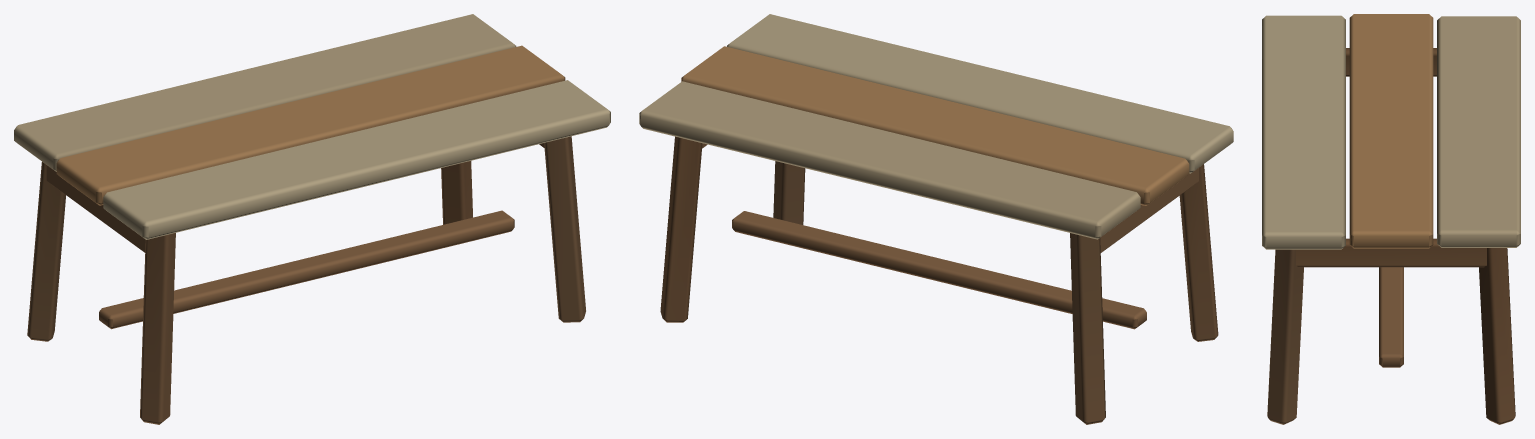
Rendered from yard_table.glb.
The picture shows the model from 3 angles, left to right: view 1: azimuth 30°, elevation 25°; view 2: azimuth 150°, elevation 25°; view 3: azimuth 270°, elevation 25°; orthographic projection. The views are drawn at different scales.
Parts seen in each view (by area): view 1: yard_table; view 2: yard_table; view 3: yard_table.
Boxes of the visible parts, x1,y1,x2,y2 form: yard_table: (14, 14, 610, 424); yard_table: (639, 14, 1233, 424); yard_table: (1262, 14, 1520, 424).
Size of the model in its own units: 1.69 by 0.7254 by 0.8379.
